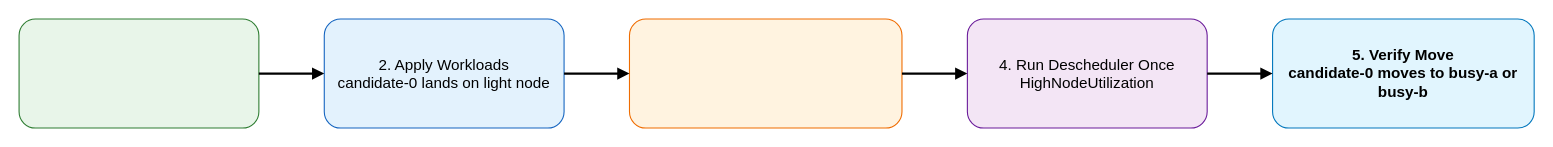
The diagram is 1553 pixels wide and 147 high, and some of its shapes have lost their labels. Here are the shapes that lost their labels. From the top down, the centre of each, then its label:
the point at 138,73: 1. Label Nodes 1 light node 2 busy nodes
the point at 765,73: 3. Open Busy Nodes mark busy-a and busy-b as candidate-eligible
